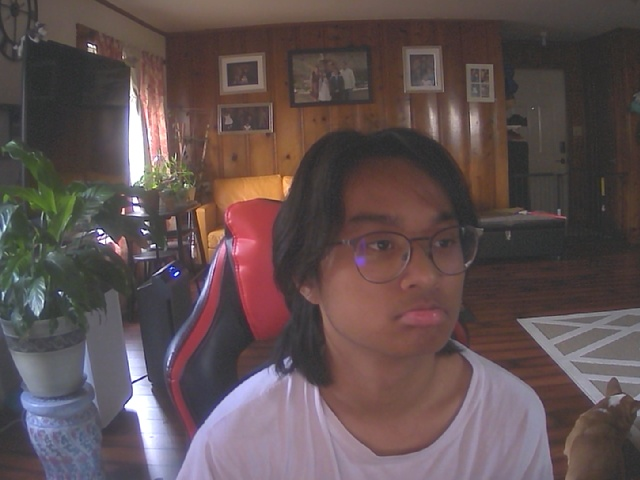sad: (286, 136, 488, 365)
